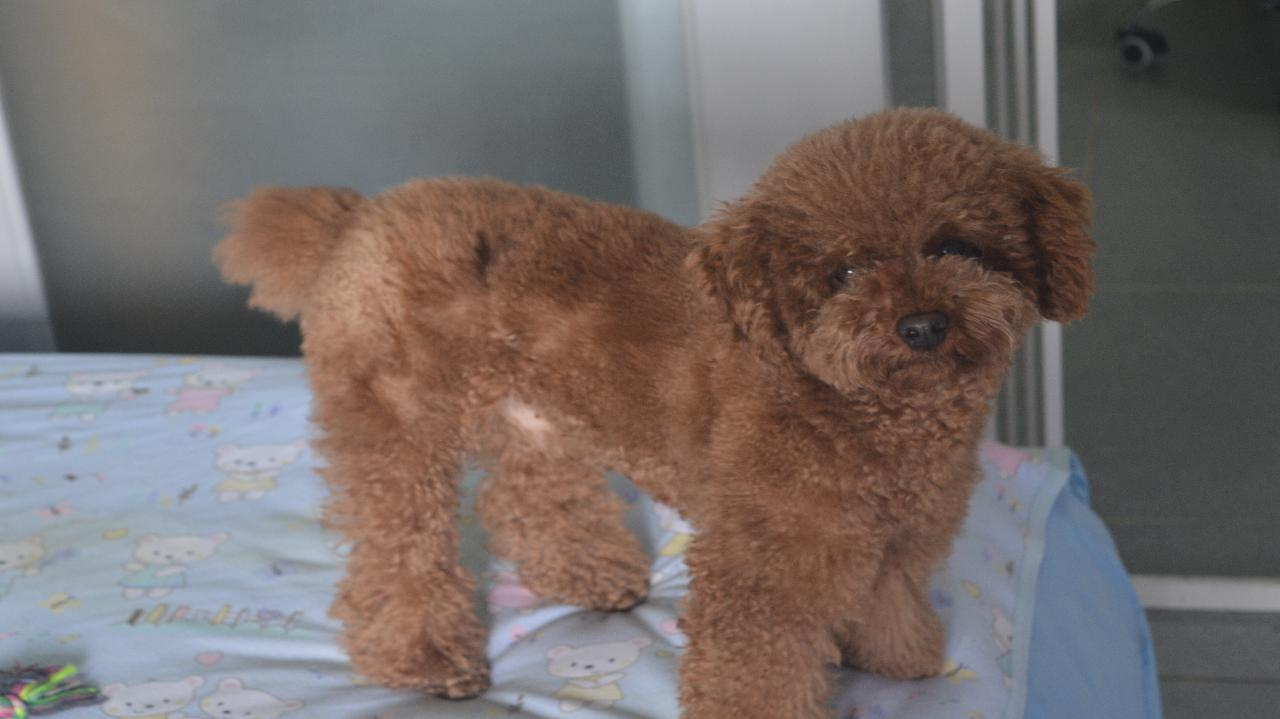coin: (225, 171, 1069, 705)
